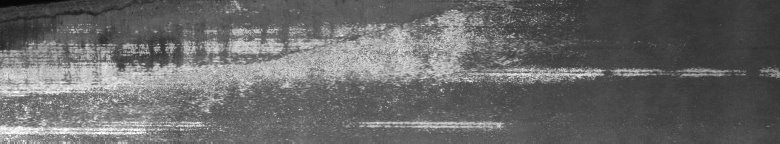kb: (4, 4, 460, 136)
